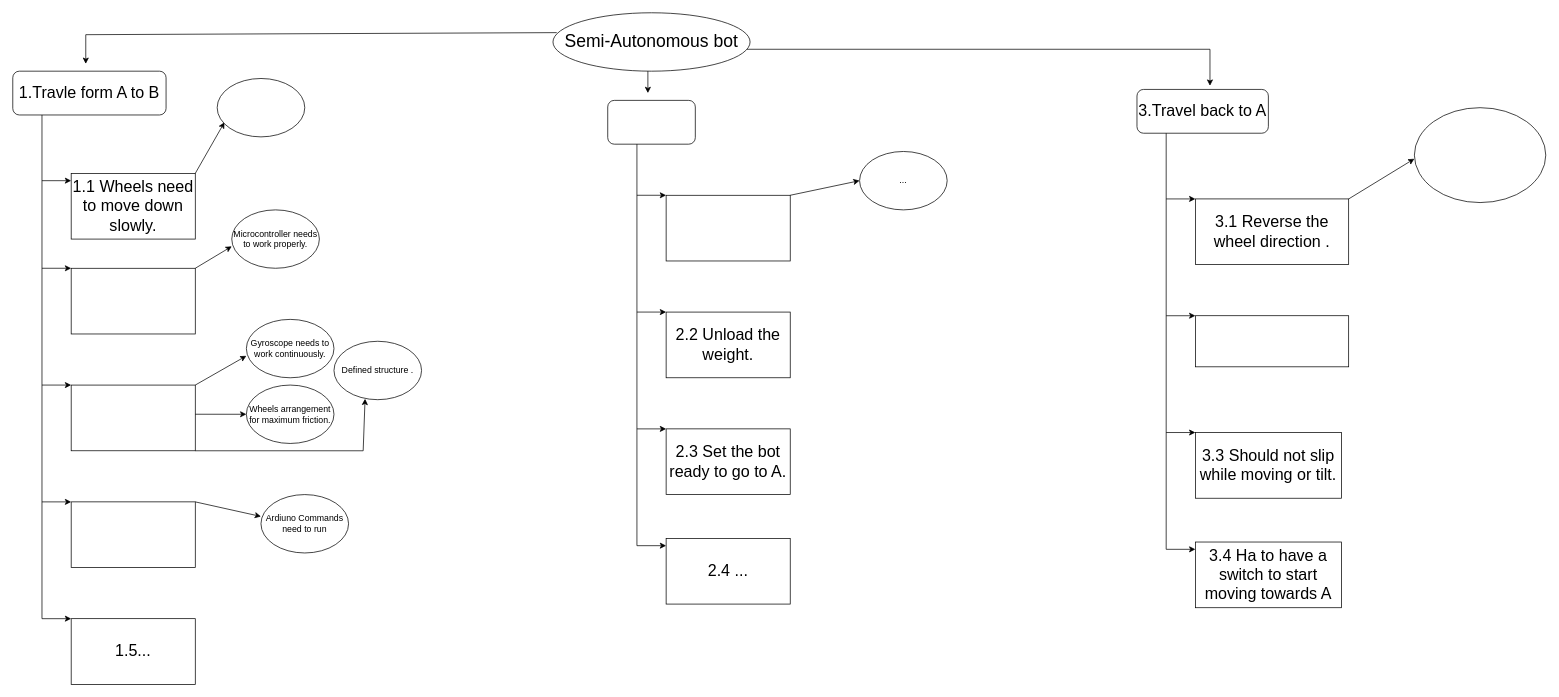
Image size: 1559x697. Some labels were removed from this diagram. Each missing label, with the centre of its shape:
1.2 Direction of the bot should be towards B.: [132,301]
1.3 The bot should not tilt.: [132,417]
1.4 Has to have a switch to start moving.: [132,534]
2. Stay at B: [651,122]
2.1 Stop at B.: [727,228]
3.2 Move towards A.: [1272,341]
Motors need to change direction and command need to work: [1480,155]
Motors need to work: [260,107]
